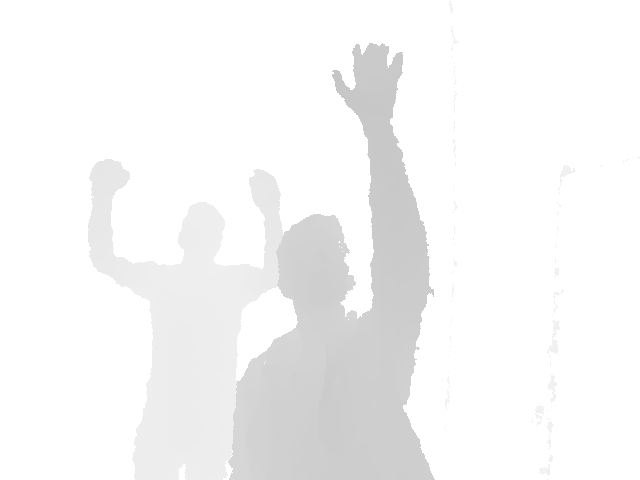hand: (331, 42, 404, 127), (247, 168, 282, 218), (88, 160, 130, 199)
head: (277, 214, 355, 320), (178, 202, 224, 265)
person: (226, 42, 436, 480), (87, 160, 285, 480)
